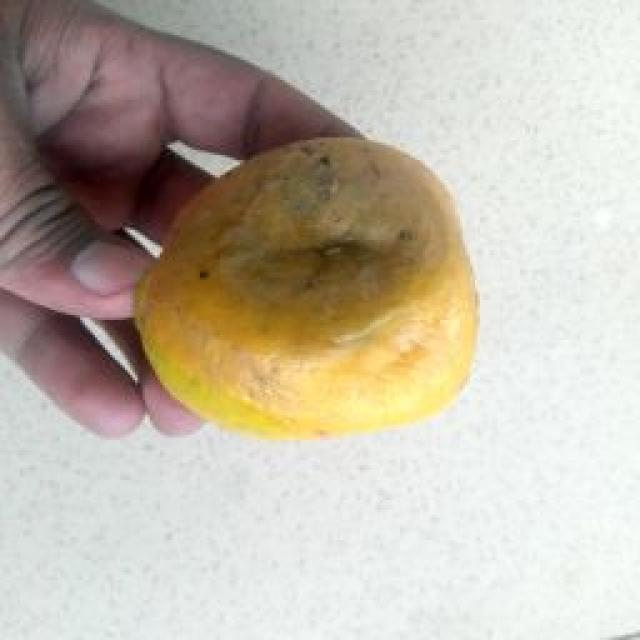Bad_Orange: (136, 139, 478, 437)
